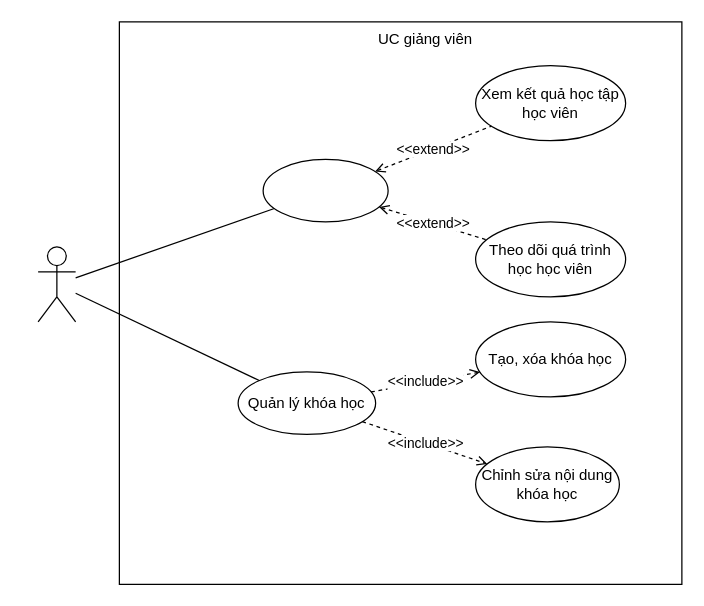
This 704x606 diagram has some shape labels left out. The box of each missing label's shape, as (x1, y1, x2, y2) in pixels:
Giảng viên: (37, 246, 76, 322)
Quản lý lớp: (262, 158, 388, 222)
